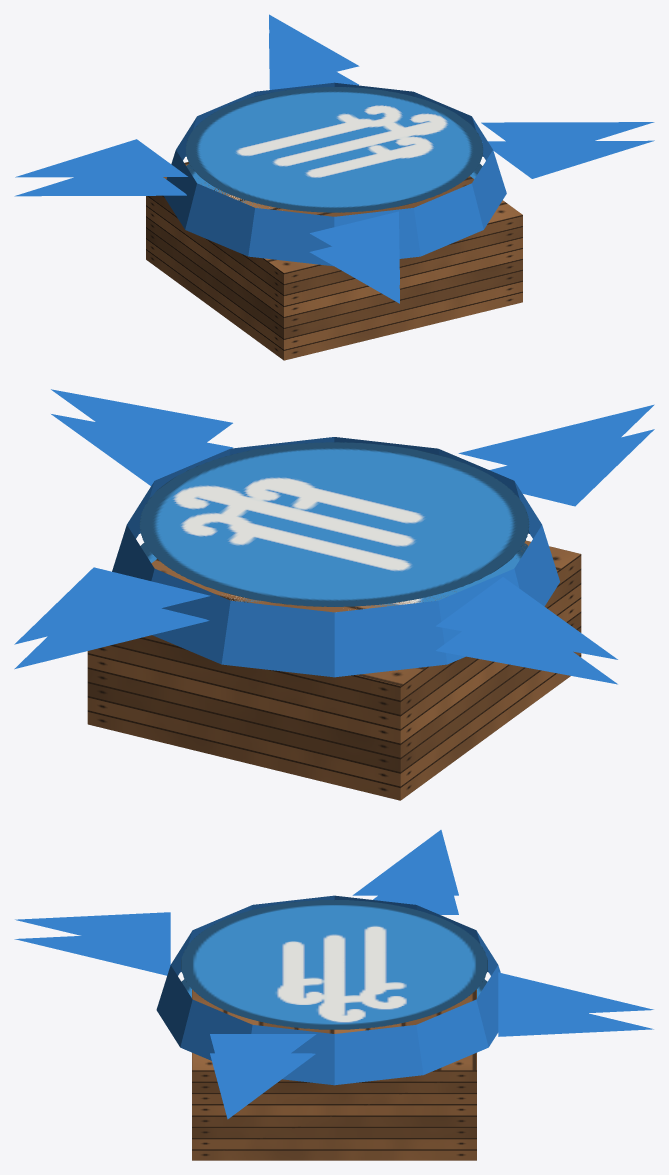
Rendered from powerup_wind.obj.
The picture shows the model from 3 angles, top to bottom: view 1: azimuth 30°, elevation 25°; view 2: azimuth 150°, elevation 25°; view 3: azimuth 270°, elevation 25°; orthographic projection. The views are drawn at different scales.
Visible parts, largest first — view 1: Icon, Crate; view 2: Icon, Crate; view 3: Icon, Crate.
Boxes of the visible parts, left/top/right/bottom form: Icon: left=14, top=14, right=654, bottom=303; Crate: left=146, top=162, right=522, bottom=360; Icon: left=14, top=389, right=654, bottom=684; Crate: left=87, top=540, right=581, bottom=800; Icon: left=14, top=830, right=653, bottom=1119; Crate: left=192, top=989, right=476, bottom=1160.
Size of the model in its own units: 1.8 by 0.42 by 1.8.
3 materials, 2 textured.
